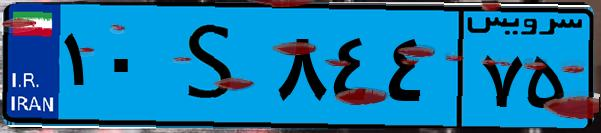0: (110, 28, 158, 98)
1: (57, 26, 110, 100)
4: (385, 28, 445, 110), (330, 28, 385, 110)
5: (525, 38, 570, 115)
7: (475, 38, 525, 113)
8: (270, 28, 330, 110)
S: (158, 12, 270, 120)
